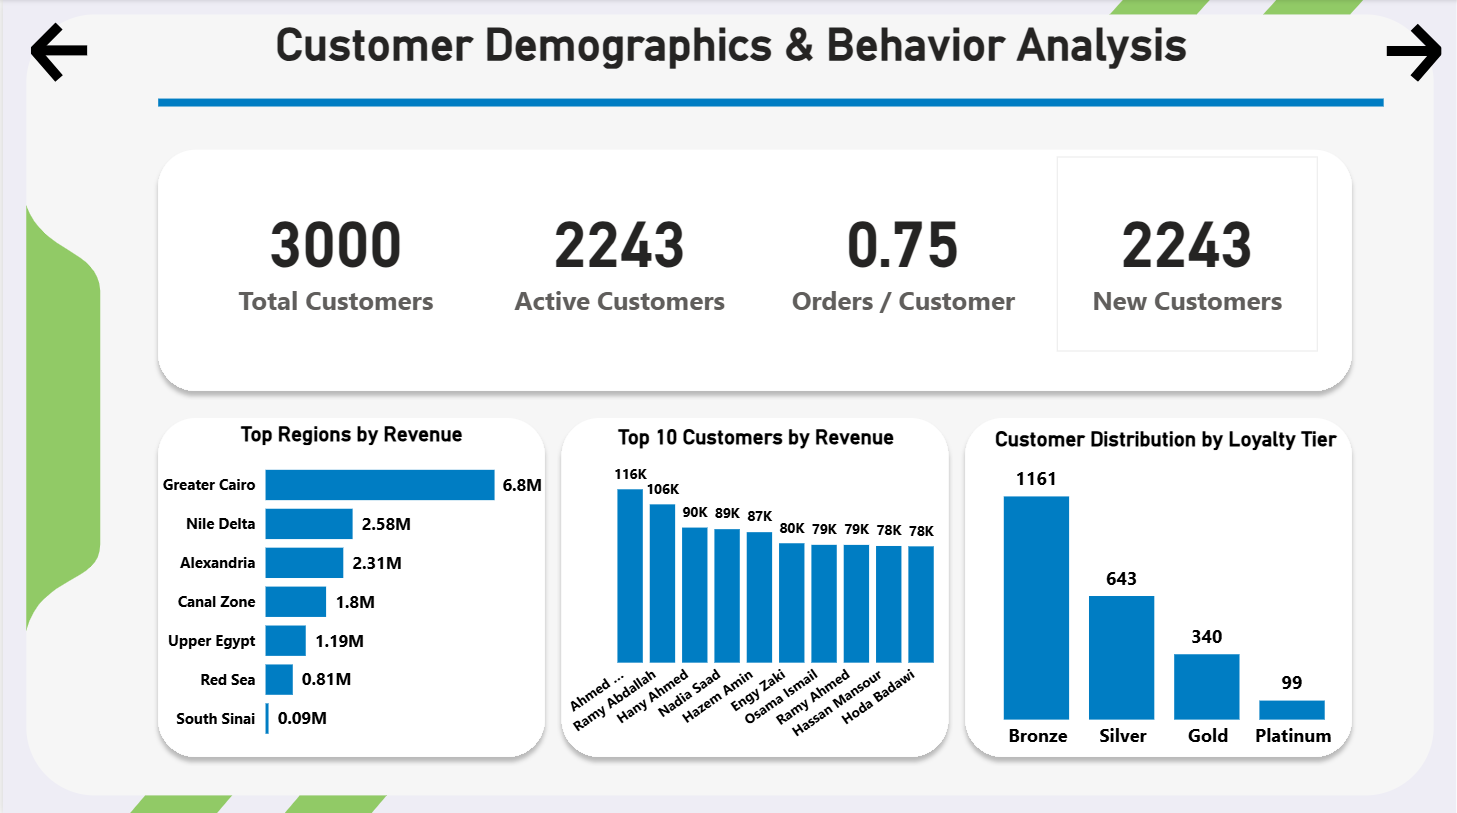

This screenshot's page, from the dashboard's own definition file:
{"tool":"powerbi","page":{"name":"Customer Analysis","canvas":[1280,720],"ordinal":1},"visuals":[{"type":"textbox","title":"Customer Demographics & Behavior Analysis","box":[123.8,16.7,1033.3,77.4],"z":0},{"type":"group","id":"g1","title":"Group 1","box":[178.6,138.1,978.6,171.4],"z":1000},{"type":"card","fields":{"Values":["customers.Total Customers"]},"box":[178.6,138.1,229.8,171.4],"z":1000,"group":"g1"},{"type":"actionButton","box":[10.7,16.7,79.8,60.7],"z":2000},{"type":"card","fields":{"Values":["customers.Active Customers"]},"box":[428.2,138.1,229.8,171.4],"z":2000,"group":"g1"},{"type":"actionButton","box":[1200,18,79.8,59.5],"z":3000},{"type":"card","fields":{"Values":["customers.Orders / Customer"]},"box":[677.8,138.1,229.8,171.4],"z":3000,"group":"g1"},{"type":"card","fields":{"Values":["customers.New Customers"]},"box":[927.4,138.1,229.8,171.4],"z":4000,"group":"g1"},{"type":"barChart","title":"Top Regions by Revenue","fields":{"Category":["customers.region"],"Y":["Sum(fact_orders_2024.total_revenue)"]},"box":[134.5,371.4,345.2,294],"z":4000},{"type":"clusteredColumnChart","title":"Top 10 Customers by Revenue","fields":{"Category":["customers.full_name"],"Y":["Sum(fact_orders_2024.total_revenue)"]},"box":[489.3,375,346.4,294],"z":5000},{"type":"columnChart","title":"Customer Distribution by Loyalty Tier","fields":{"Category":["customers.loyalty_tier"],"Y":["customers.Active Customers"]},"box":[845.2,376.2,354.8,294],"z":6000}]}

Visuals, with their boxes in screenshot pixels (x1, y1, x2, y2), scaled from the page's 1280x720 canvas onto the 1457x813 screenshot:
"Customer Demographics & Behavior Analysis" textbox: [x1=141, y1=19, x2=1317, y2=106]
"Group 1" group: [x1=203, y1=156, x2=1317, y2=349]
card - customers.Total Customers: [x1=203, y1=156, x2=465, y2=349]
actionButton: [x1=12, y1=19, x2=103, y2=87]
card - customers.Active Customers: [x1=487, y1=156, x2=749, y2=349]
actionButton: [x1=1366, y1=20, x2=1456, y2=88]
card - customers.Orders / Customer: [x1=772, y1=156, x2=1033, y2=349]
card - customers.New Customers: [x1=1056, y1=156, x2=1317, y2=349]
"Top Regions by Revenue" barChart: [x1=153, y1=419, x2=546, y2=751]
"Top 10 Customers by Revenue" clusteredColumnChart: [x1=557, y1=423, x2=951, y2=755]
"Customer Distribution by Loyalty Tier" columnChart: [x1=962, y1=425, x2=1366, y2=757]
